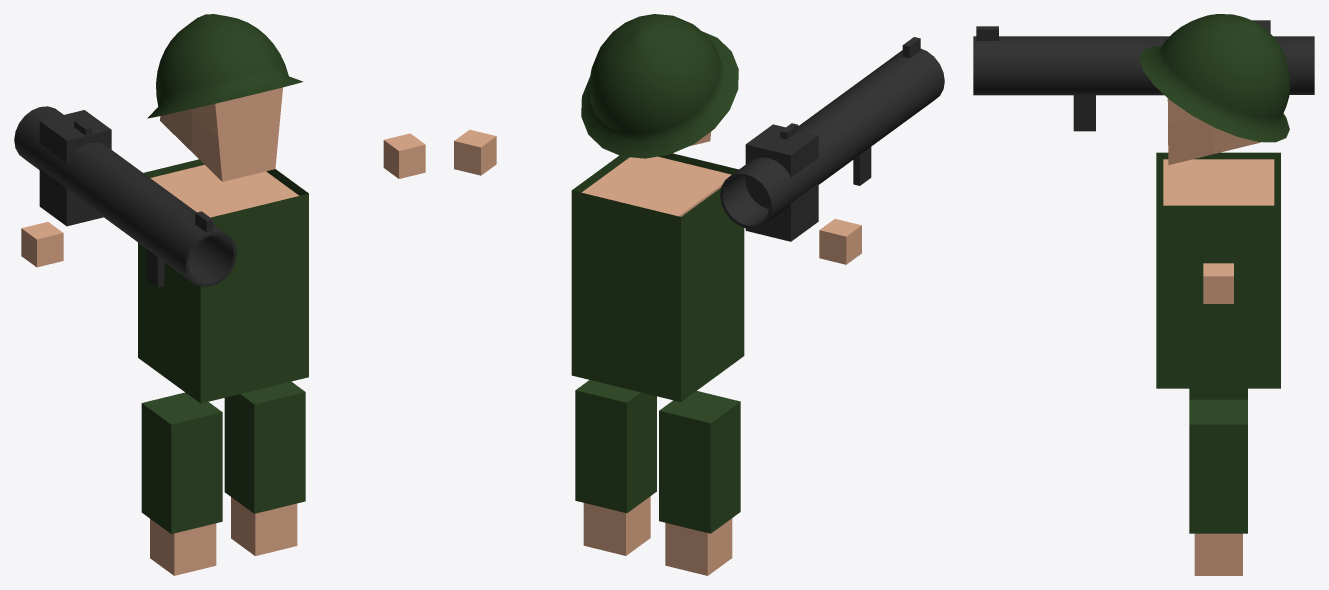
Rendered from enemy_four.fbx.
3 views of the same model, side by side, from view 1: azimuth 30°, elevation 25°; view 2: azimuth 150°, elevation 25°; view 3: azimuth 270°, elevation 25° (orthographic).
Parts seen in each view (by area): view 1: pCube9, pCube8, pPipe2, pCube10, pSphere1, pCube11; view 2: pCube9, pPipe2, pSphere1, pCube8, pCube10, pCube11; view 3: pCube9, pSphere1, pPipe2, pCube8, pCube11, pCube10.
Part boxes in pixels (x1=…): pCube9: x1=138, y1=159, x2=308, y2=403; pCube8: x1=21, y1=87, x2=425, y2=575; pPipe2: x1=14, y1=106, x2=236, y2=287; pCube10: x1=141, y1=392, x2=222, y2=533; pSphere1: x1=147, y1=14, x2=303, y2=118; pCube11: x1=224, y1=381, x2=305, y2=513; pCube9: x1=571, y1=153, x2=744, y2=401; pPipe2: x1=720, y1=37, x2=944, y2=241; pSphere1: x1=581, y1=14, x2=738, y2=158; pCube8: x1=454, y1=129, x2=861, y2=575; pCube10: x1=659, y1=391, x2=740, y2=533; pCube11: x1=575, y1=380, x2=656, y2=513; pCube9: x1=1156, y1=152, x2=1280, y2=388; pSphere1: x1=1139, y1=14, x2=1290, y2=142; pPipe2: x1=973, y1=20, x2=1314, y2=131; pCube8: x1=1163, y1=98, x2=1274, y2=575; pCube11: x1=1189, y1=399, x2=1247, y2=533; pCube10: x1=1189, y1=388, x2=1247, y2=399.
Size of the model in its own units: 4.03 by 5.24 by 3.08.
